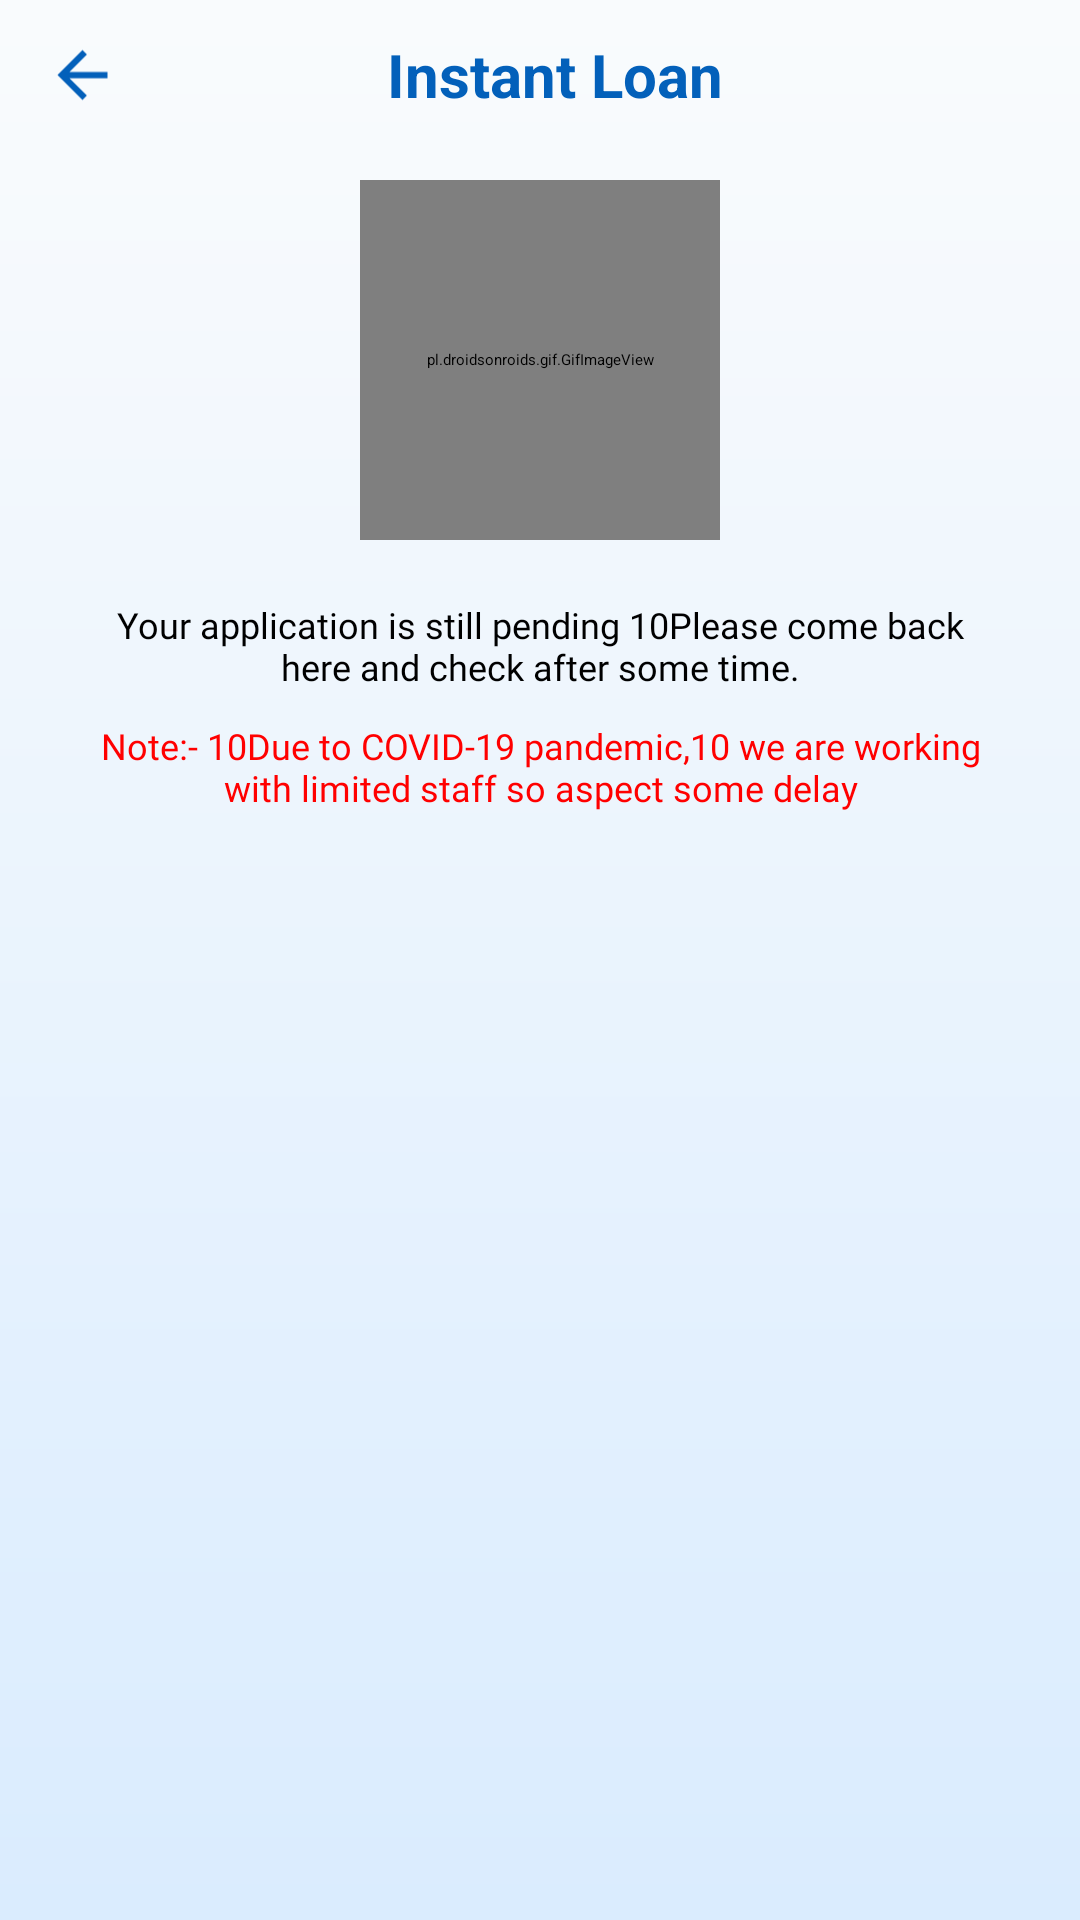

Named icons in this screenshot (1080x1920) and their bounding boxes, (x1, y1, x2, y2):
arrow back: (57, 49, 108, 101)
